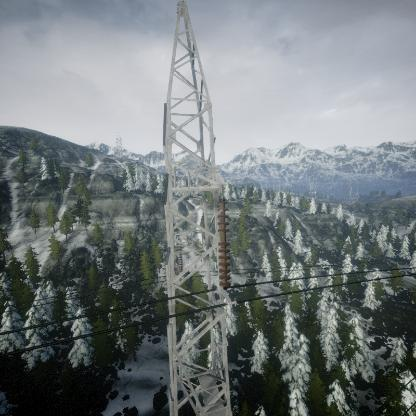insulator: (215, 198, 233, 290)
